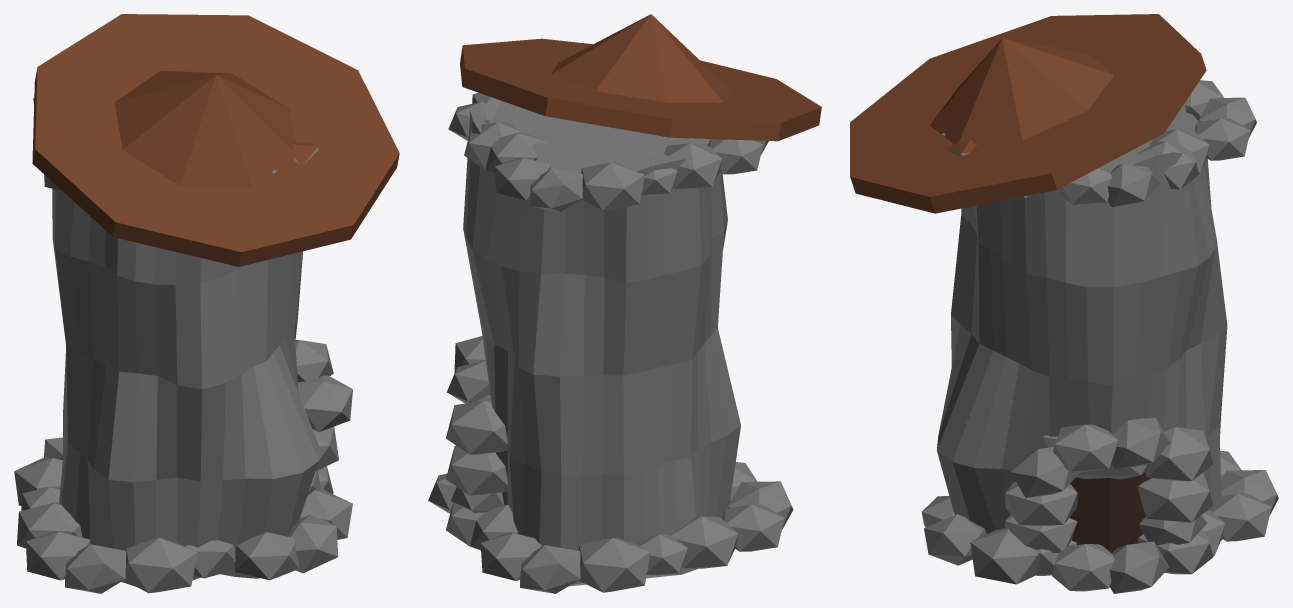
The model's file is Furnace.fbx.
3 renders of one model, left to right at view 1: azimuth 30°, elevation 25°; view 2: azimuth 150°, elevation 25°; view 3: azimuth 270°, elevation 25°, orthographic.
Parts seen in each view (by area): view 1: Cone; view 2: Cone; view 3: Cone.
Part boxes in pixels (<box>): Cone: <box>14,14,399,593</box>; Cone: <box>428,14,821,593</box>; Cone: <box>850,14,1278,593</box>.
Size of the model in its own units: 525 by 772 by 600.
